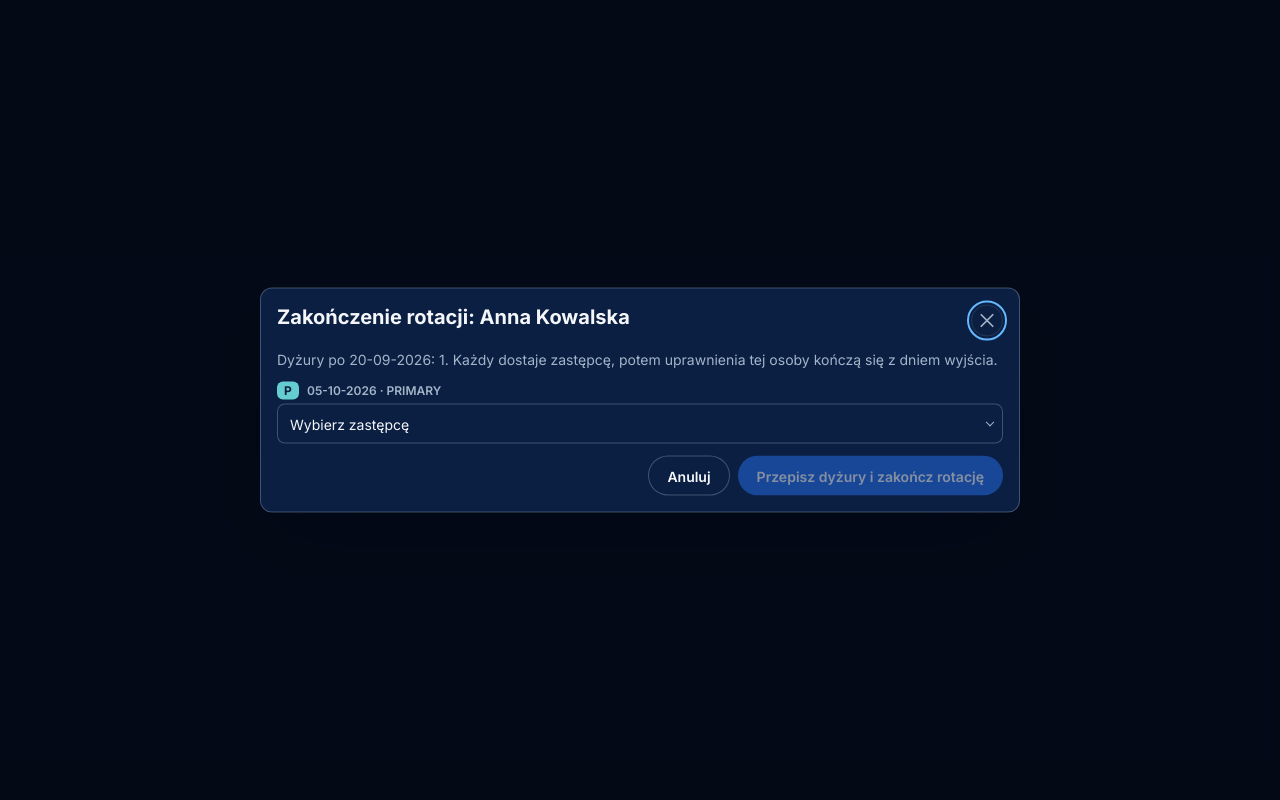
it: OffboardingDialog › takes an acknowledgement back
Select "Marek Nowak" in the dropdown: [640, 424] box [277,404,1003,444]
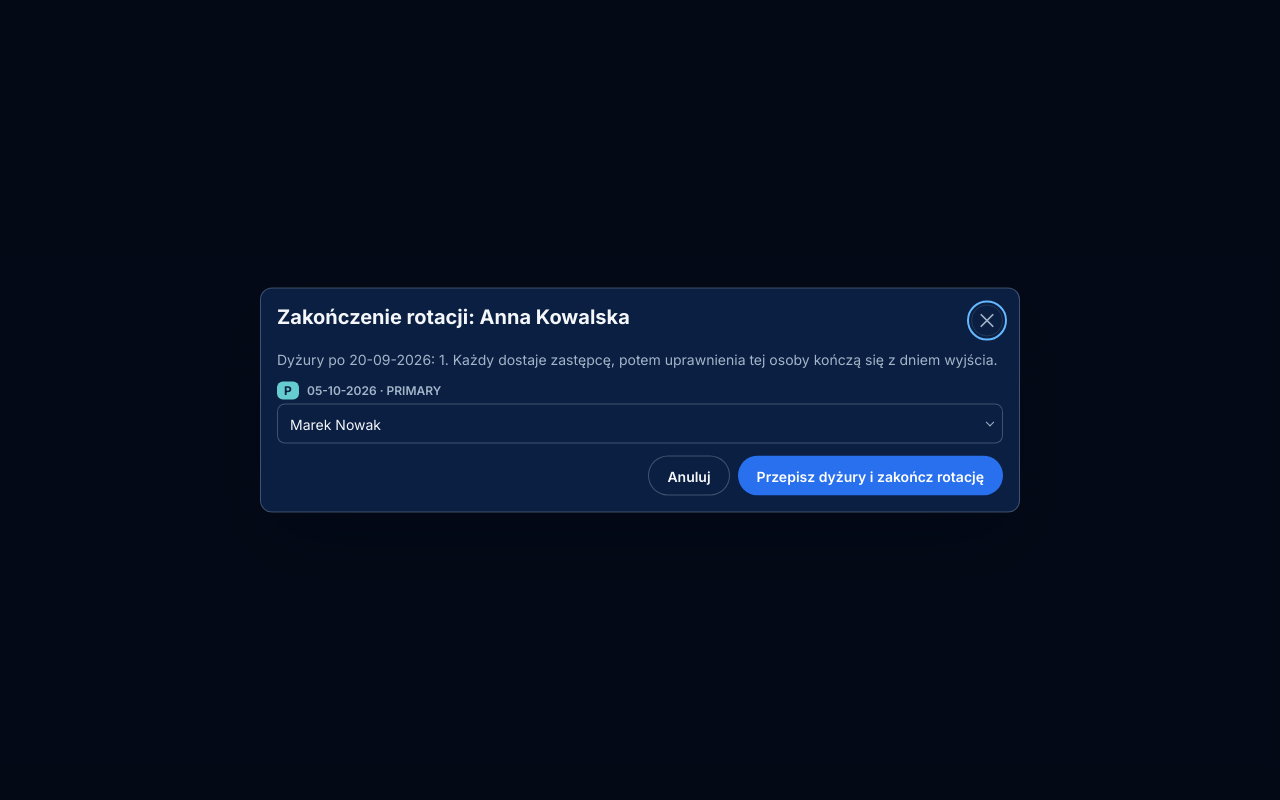
Click the button "Przepisz dyżury i zakończ rotację": [870, 476] box [738,456,1003,496]
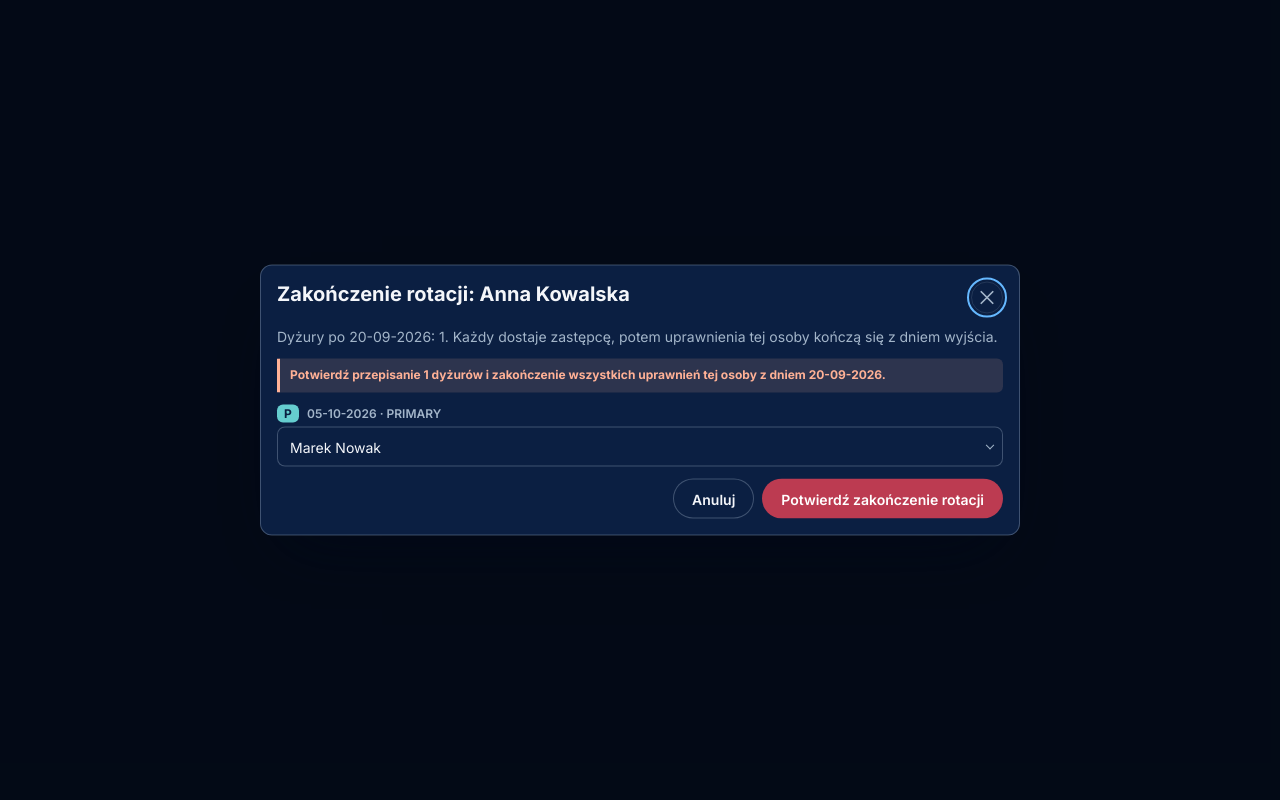
Click the button "Potwierdź zakończenie rotacji": [883, 498] box [762,478,1003,518]
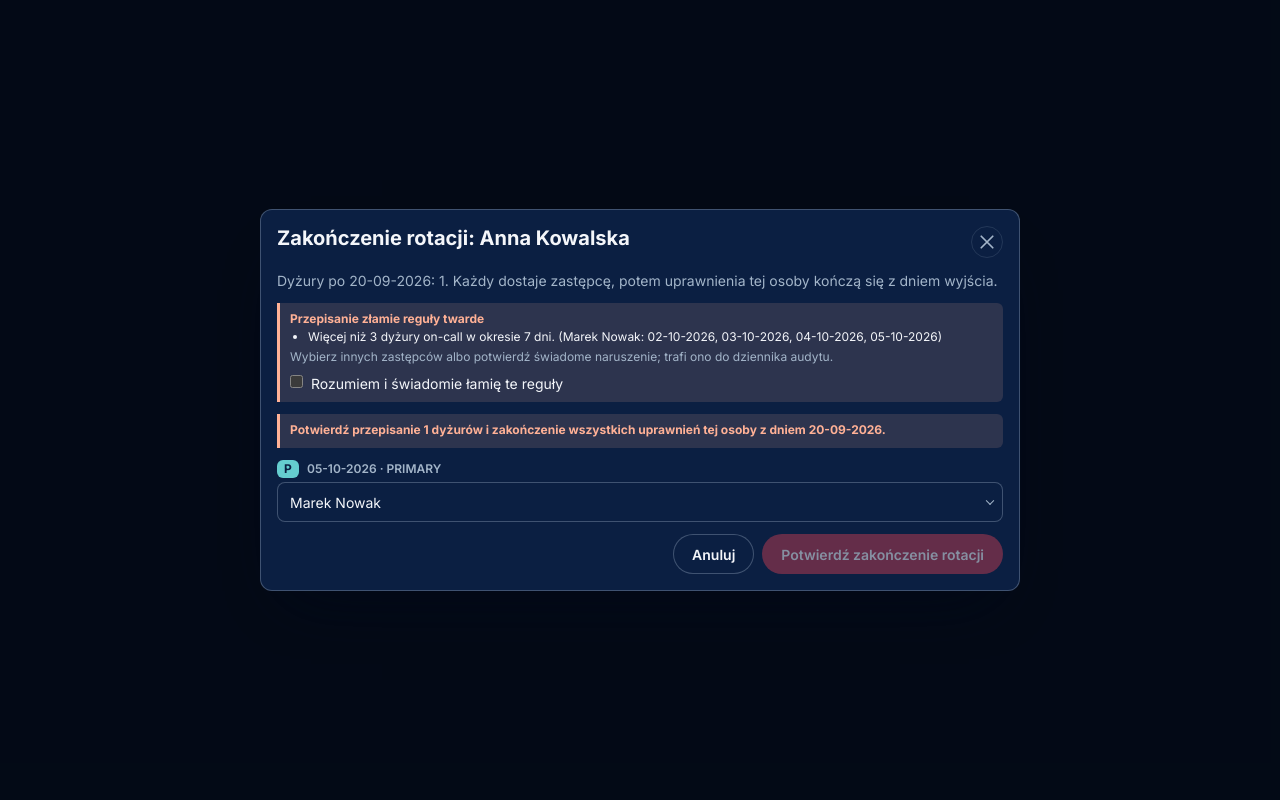
Check: the checkbox labelled "Rozumiem i świadomie łamię te reguły" is enabled
Click the checkbox labelled "Rozumiem i świadomie łamię te reguły": [296, 382] box [290,375,303,388]
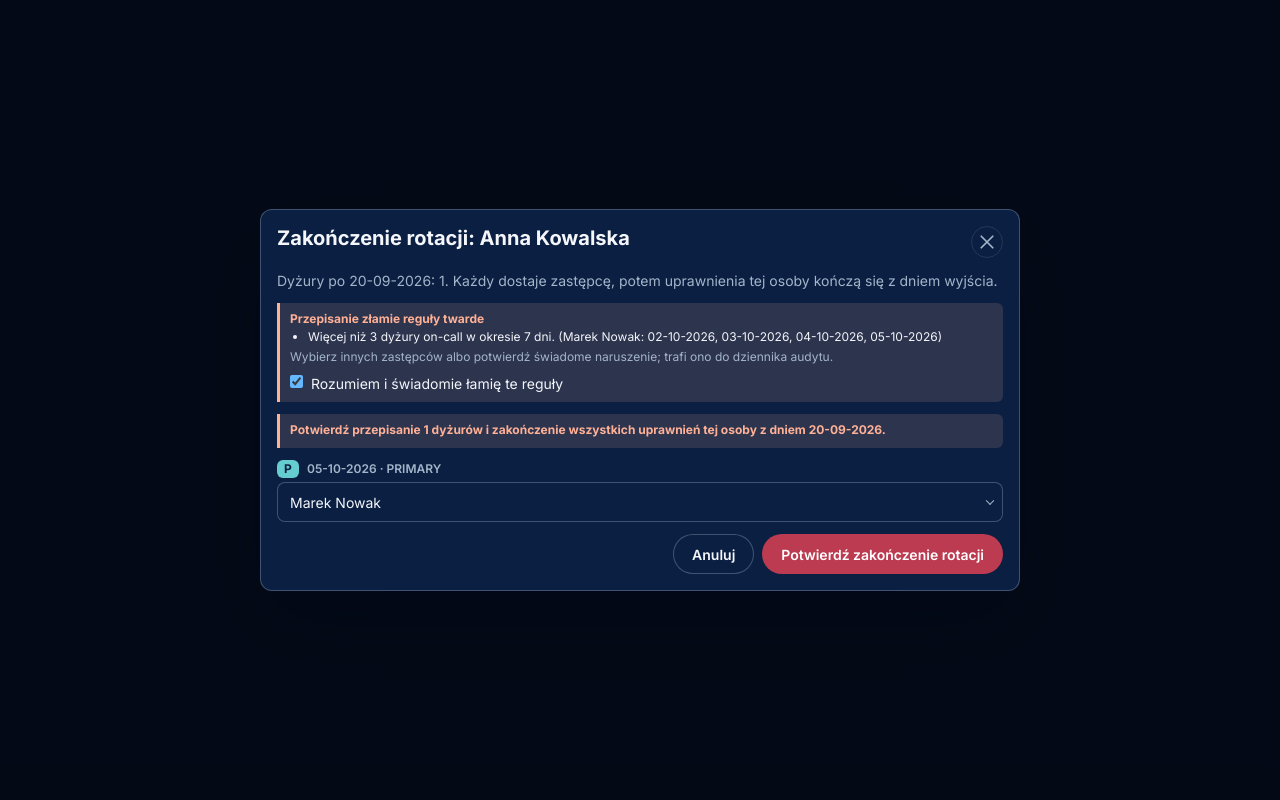
Check: the button "Potwierdź zakończenie rotacji" is enabled, box [762,534,1003,574]
Click the checkbox labelled "Rozumiem i świadomie łamię te reguły": [296, 382] box [290,375,303,388]
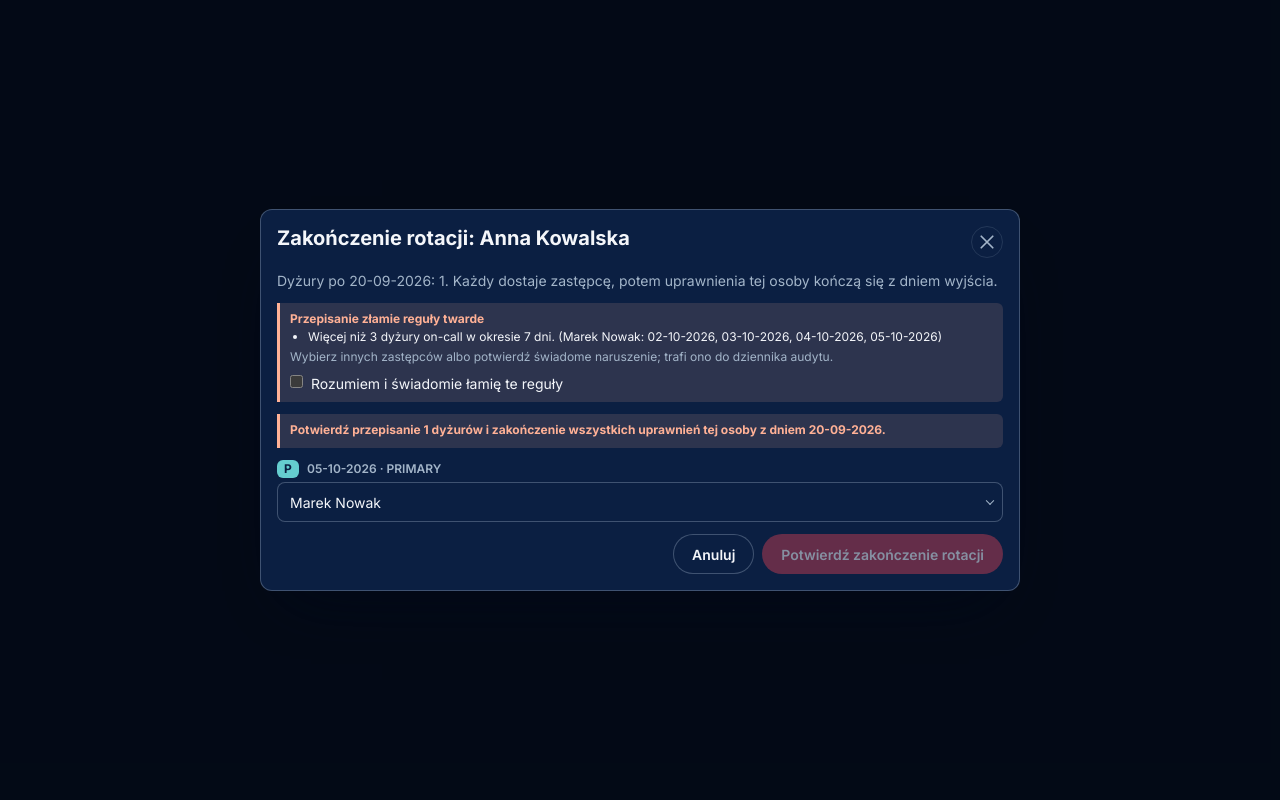
Check: the checkbox labelled "Rozumiem i świadomie łamię te reguły" is not checked, box [290,375,303,388]
Check: the button "Potwierdź zakończenie rotacji" is disabled, box [762,534,1003,574]
